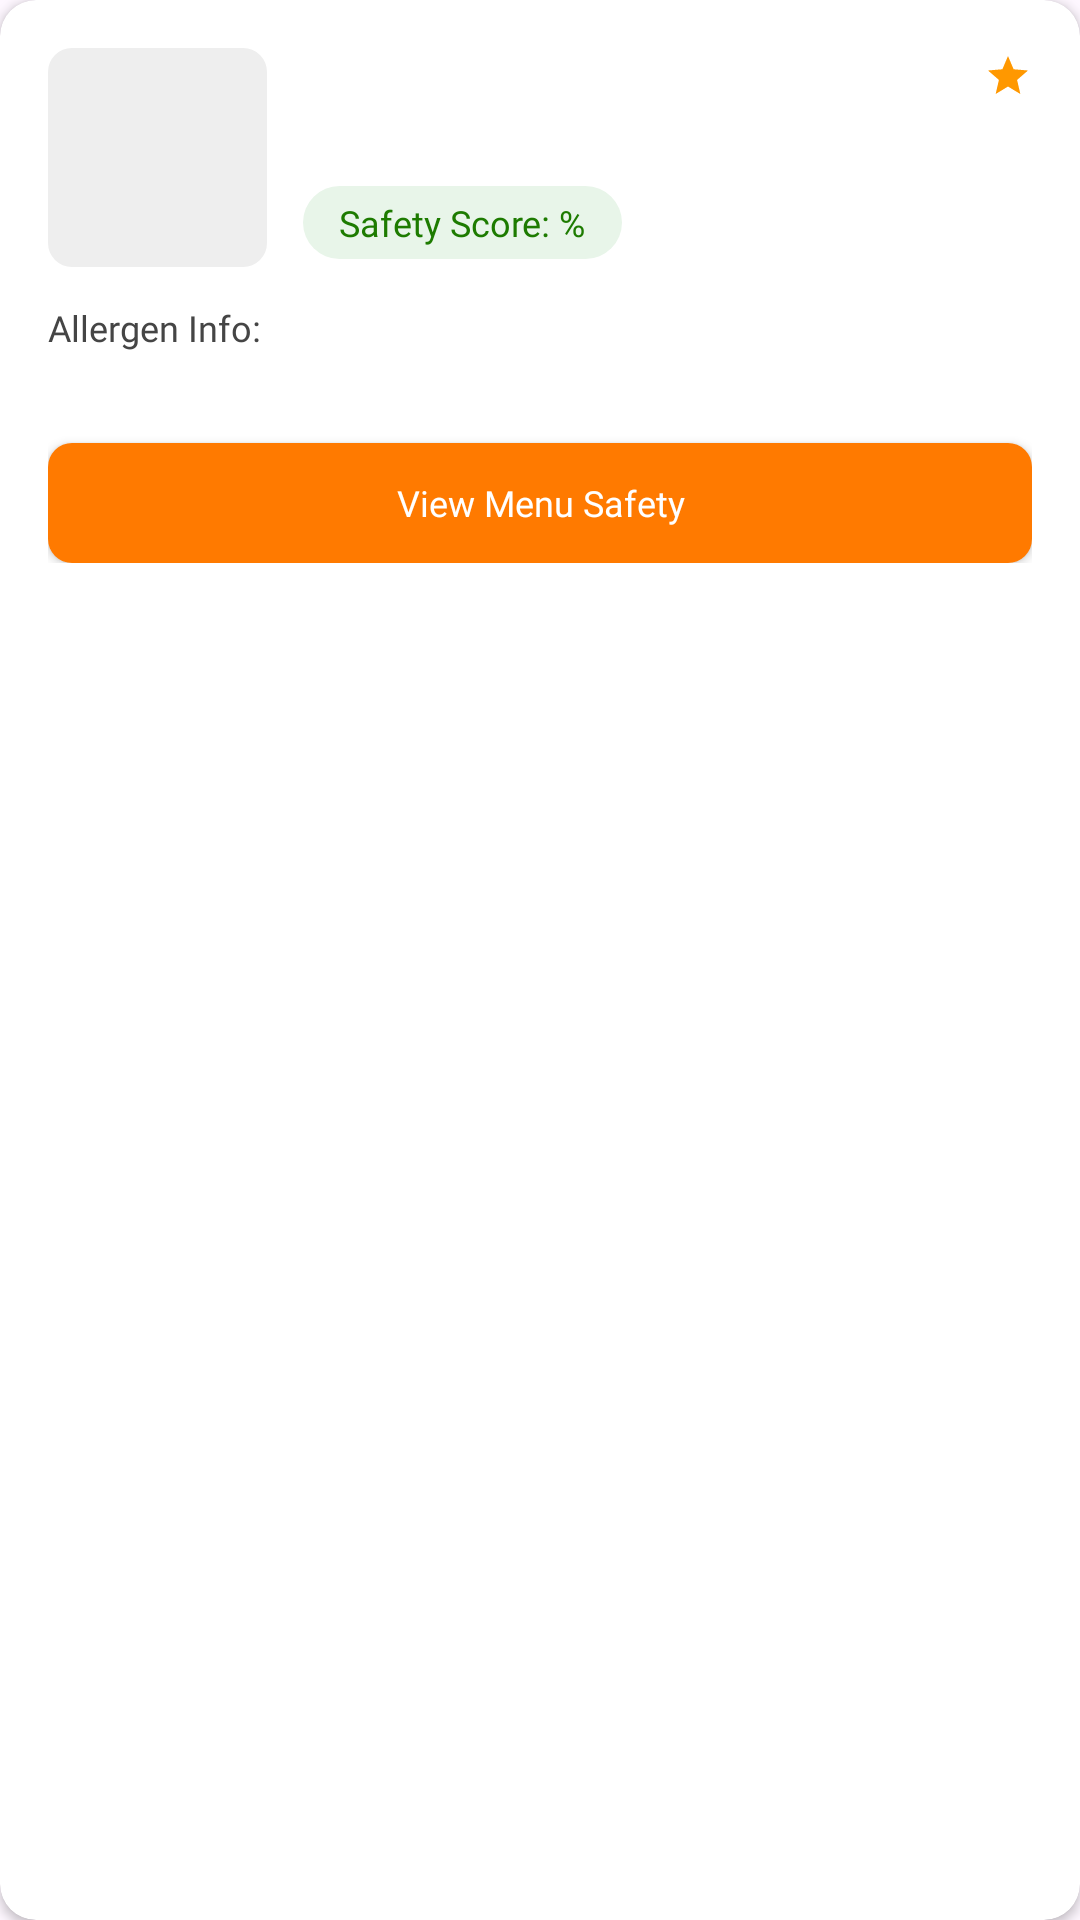

Where to tap for icons on this 1080×1920 app screen, as (x,y):
star: (1008,75)
